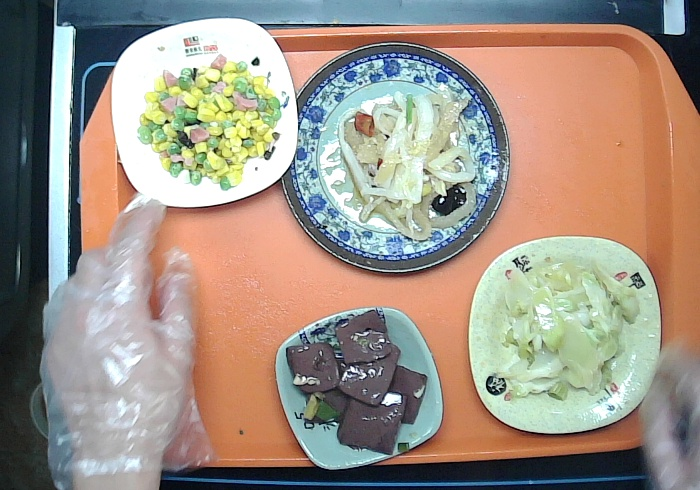NLDX-Bai_Se_Xiao_Fang_Die: (106, 16, 301, 212)
NLDX-Fu_Zi_Fang_Die: (466, 232, 665, 438)
NLDX-Qing_Hua_Xiao_Fang_Die: (272, 303, 446, 472)
NLDX-Qing_Hua_Yuan_Die: (276, 39, 514, 278)
